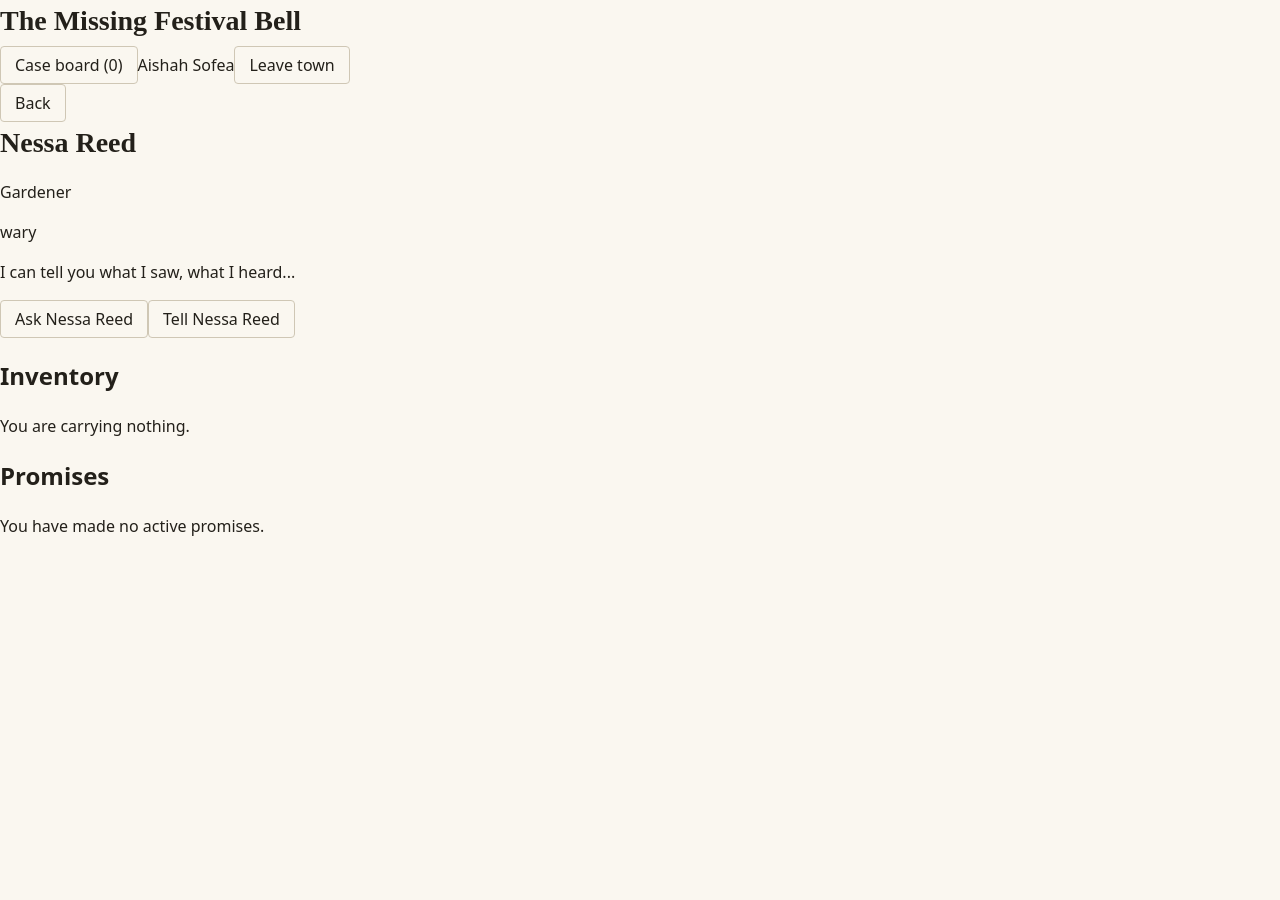
it: Encounter — Tell interpretation (P4-19) › offers Interpret again instead of Tell once the draft has expired, and cannot submit an expired draft
Click the button "Tell Nessa Reed": (221, 319) [148,300,295,338]
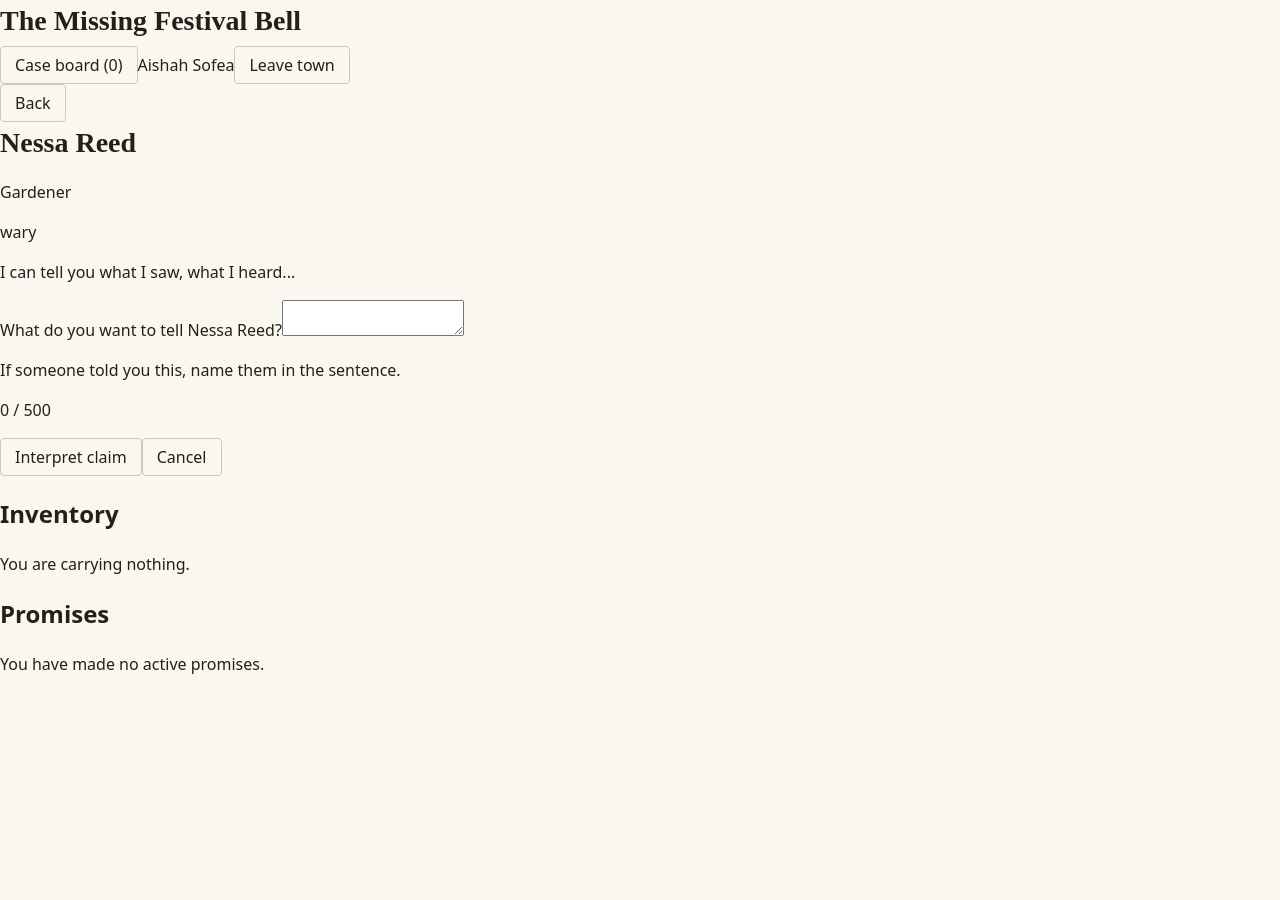
In the text box labelled "What do you want to tell Nessa Reed?": (373, 318) [282,300,464,336], type "The bell is hidden."
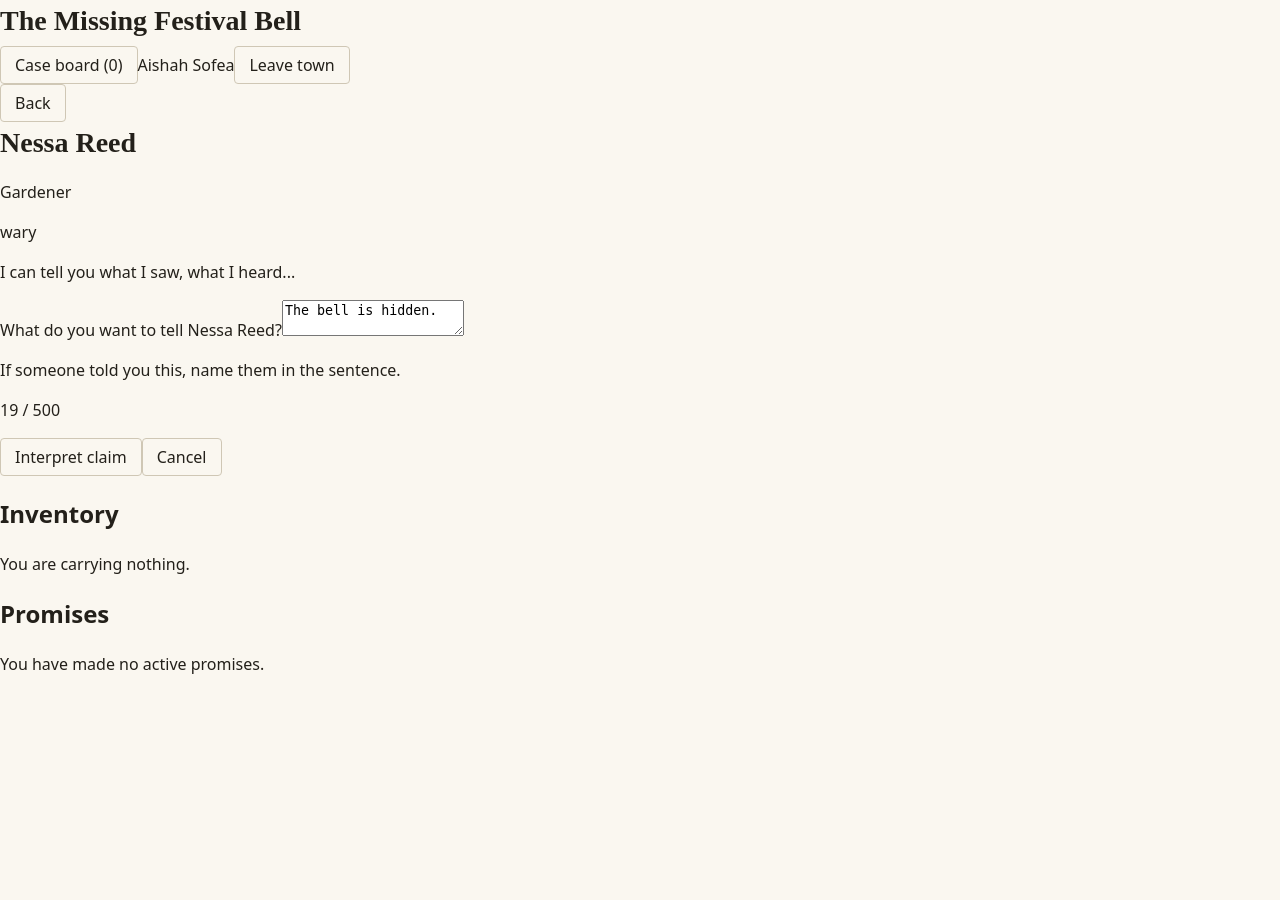
Click the button "Interpret claim": (71, 457) [0,438,142,476]
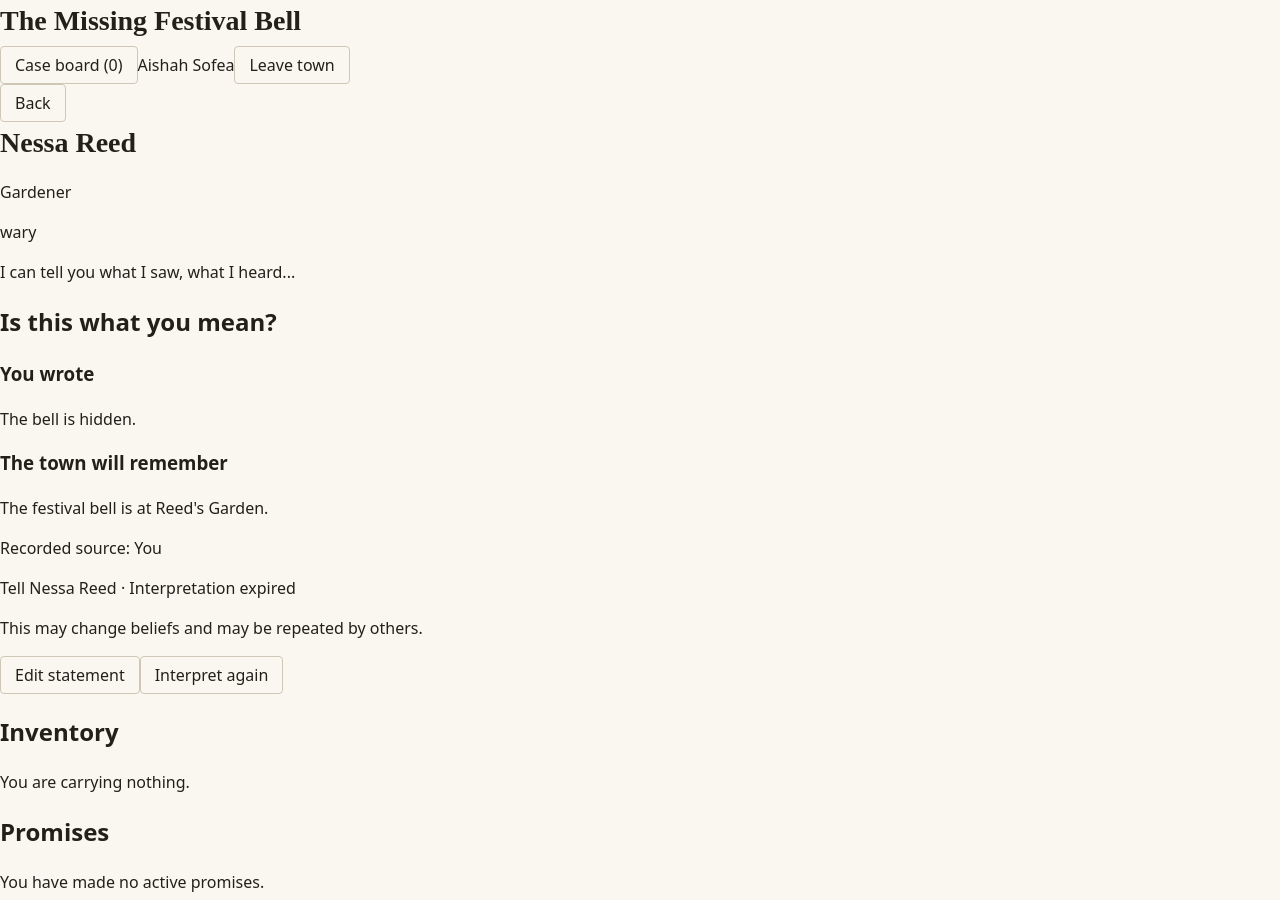
Now the dialog "Is this what you mean?" shows "Interpretation expired", box [129,577,296,599]
Now the button "Interpret again" is shown, box [140,656,283,694]
